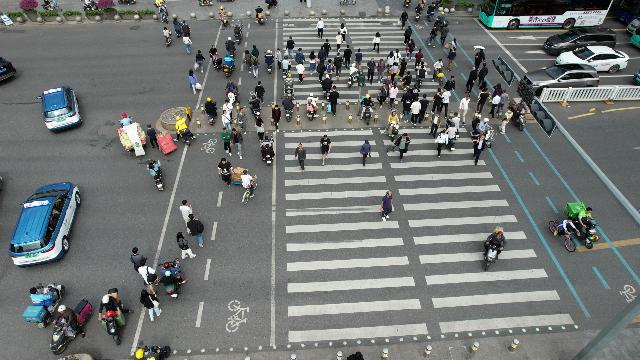non-motor-vehicle: (44, 304, 92, 352), (96, 288, 134, 344), (564, 200, 602, 248), (158, 262, 192, 298), (27, 284, 64, 312), (482, 228, 508, 264), (472, 112, 498, 146), (358, 93, 376, 127), (512, 98, 530, 132), (258, 136, 278, 166), (385, 109, 401, 141), (242, 172, 258, 202), (224, 80, 243, 104), (306, 90, 320, 122), (174, 126, 196, 146), (444, 123, 458, 153), (550, 219, 574, 236), (282, 93, 296, 122), (159, 134, 179, 154), (144, 346, 172, 360), (248, 96, 264, 118), (348, 62, 360, 90), (84, 0, 116, 10), (415, 61, 427, 87), (432, 60, 444, 86), (450, 112, 462, 138), (224, 35, 238, 56), (281, 56, 293, 80), (222, 56, 234, 78), (172, 16, 184, 38), (264, 48, 274, 74), (254, 5, 266, 24), (425, 1, 437, 20), (162, 27, 172, 49), (158, 5, 170, 23), (414, 3, 424, 23), (283, 80, 295, 96), (402, 70, 412, 89), (218, 8, 228, 26), (155, 0, 169, 10), (437, 18, 451, 28), (236, 22, 244, 36), (200, 0, 214, 6)
person: (134, 287, 164, 323), (136, 260, 162, 295), (174, 232, 198, 260), (391, 133, 413, 162), (230, 129, 247, 161), (318, 136, 336, 166), (294, 142, 310, 174), (328, 84, 342, 118), (472, 134, 486, 166), (380, 191, 396, 217), (470, 44, 486, 70), (184, 215, 204, 235), (236, 108, 250, 134), (193, 49, 207, 75), (436, 130, 448, 160), (186, 72, 202, 94), (460, 94, 470, 128), (321, 73, 334, 99), (221, 128, 233, 156), (342, 42, 354, 70), (176, 200, 194, 218), (130, 247, 148, 265), (420, 92, 430, 124), (427, 22, 439, 48), (250, 52, 262, 78), (272, 103, 282, 133), (490, 92, 500, 121), (378, 81, 388, 109), (466, 66, 476, 94), (294, 62, 308, 82), (221, 110, 233, 132), (254, 117, 264, 143), (432, 112, 442, 138), (478, 88, 488, 114), (216, 158, 232, 174), (504, 105, 512, 137), (478, 63, 490, 84), (307, 50, 317, 75), (254, 80, 266, 100), (360, 142, 370, 166), (316, 58, 326, 82), (335, 52, 343, 82), (354, 47, 364, 71), (367, 56, 375, 84), (413, 99, 421, 127), (182, 34, 192, 56), (391, 82, 399, 109), (294, 46, 306, 64), (400, 56, 408, 82), (411, 80, 421, 100), (318, 45, 328, 65), (276, 47, 284, 72), (145, 127, 159, 141), (222, 100, 234, 116), (377, 58, 385, 82), (404, 98, 412, 122), (434, 88, 442, 112), (443, 87, 449, 119), (444, 38, 460, 50), (441, 23, 449, 47), (326, 58, 334, 82), (446, 74, 456, 93), (390, 61, 398, 84), (499, 87, 506, 113), (316, 18, 326, 36), (386, 50, 394, 72), (182, 21, 192, 38), (245, 49, 252, 73), (323, 38, 332, 56), (448, 50, 458, 66), (399, 12, 409, 28), (285, 36, 295, 50), (209, 46, 219, 60), (384, 75, 394, 89), (251, 42, 261, 56), (408, 39, 414, 61), (348, 352, 364, 360), (394, 48, 402, 64), (338, 27, 347, 41), (339, 22, 349, 34), (416, 50, 424, 64), (492, 84, 503, 94), (375, 32, 383, 44), (404, 90, 412, 100), (338, 34, 344, 44)
